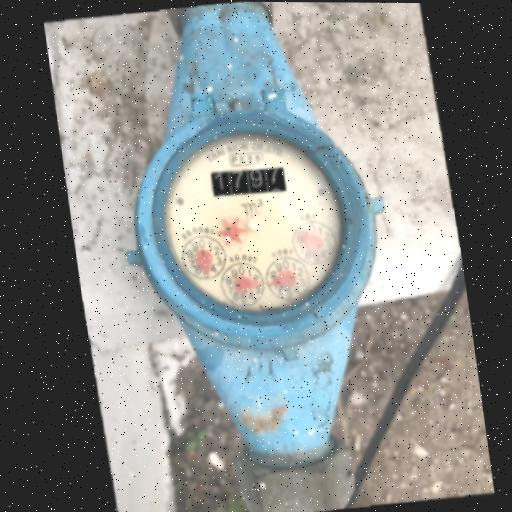1: (211, 172, 233, 197)
7: (265, 167, 287, 192), (230, 170, 250, 195)
9: (248, 169, 267, 193)
border_water_meter_number: (210, 165, 288, 198)
